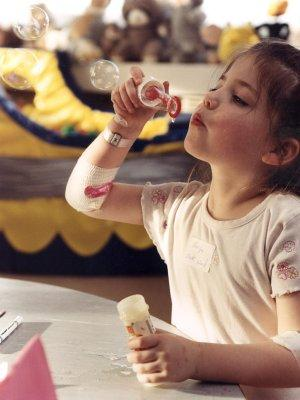person: (67, 46, 300, 400)
